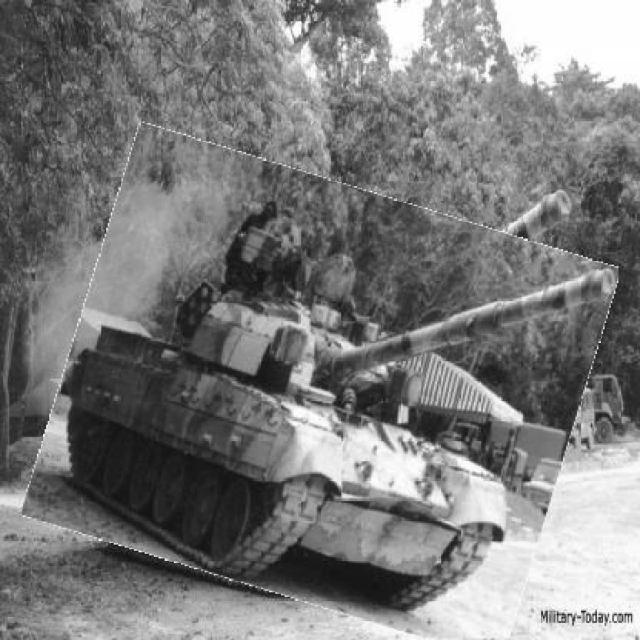Tank: (46, 155, 598, 630)
